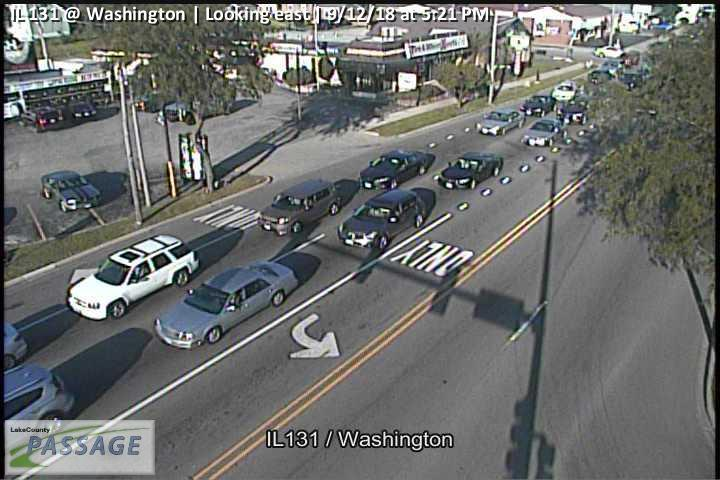SUV: (65, 232, 200, 321), (259, 177, 340, 235)
Sedan: (151, 260, 300, 352), (333, 187, 436, 251), (357, 149, 435, 190), (40, 169, 103, 212), (438, 153, 503, 190), (475, 109, 526, 135), (524, 116, 566, 145), (21, 107, 66, 132), (556, 96, 593, 125), (67, 96, 96, 123), (523, 94, 556, 116), (552, 80, 577, 100)
